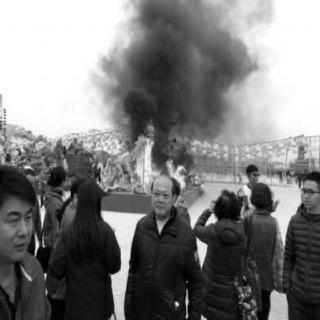other: (238, 202, 278, 284)
